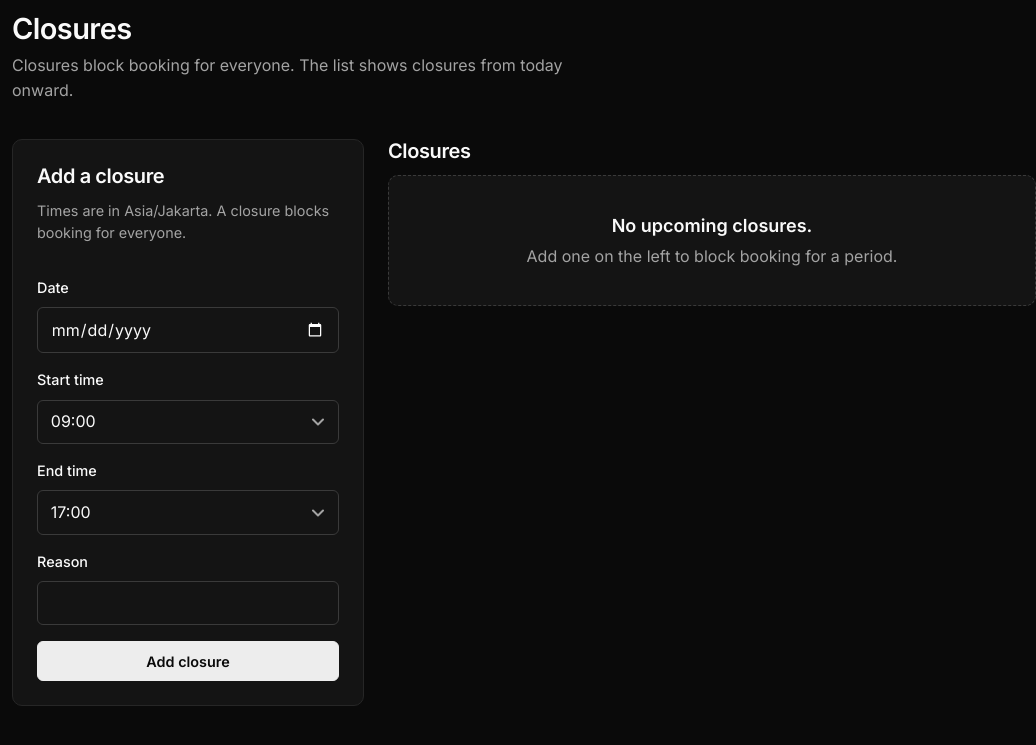
Test case: ClosuresPage › shows the 409 conflict message inline and creates nothing
The width and height of the screenshot is (1036, 745).
Expected: the text "No upcoming closures." is shown, [612,212,812,240]
In the date field labelled "Date": (188, 330) [37,307,339,353], type "2026-11-02"
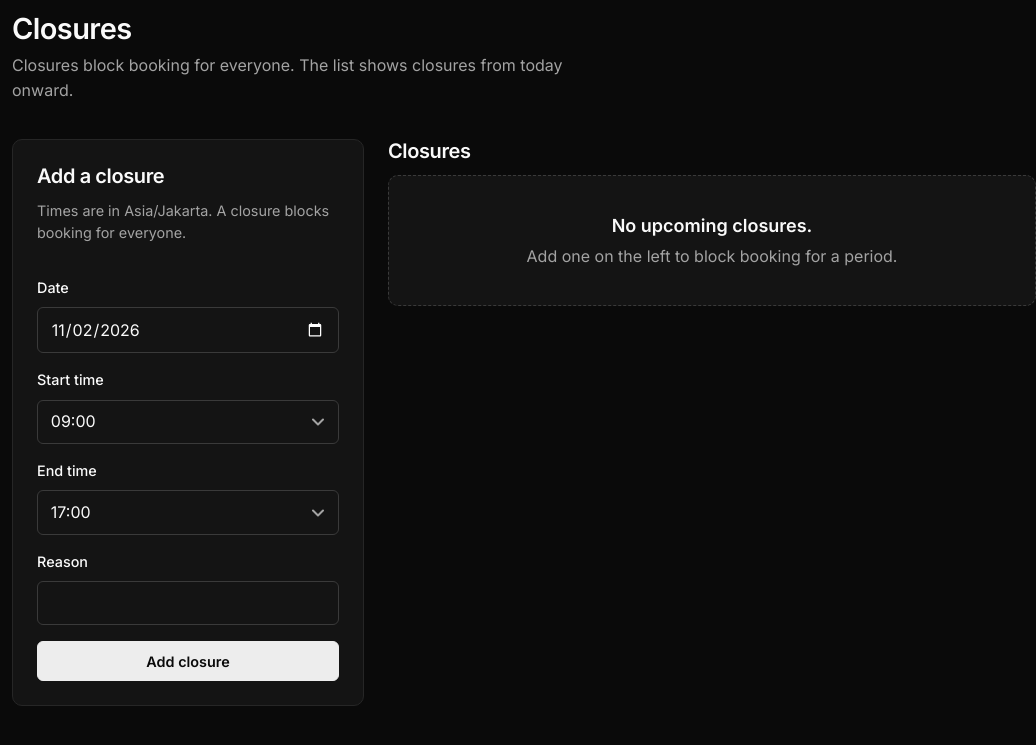
In the field labelled "Reason": (188, 603) [37,581,339,626], type "Holiday"
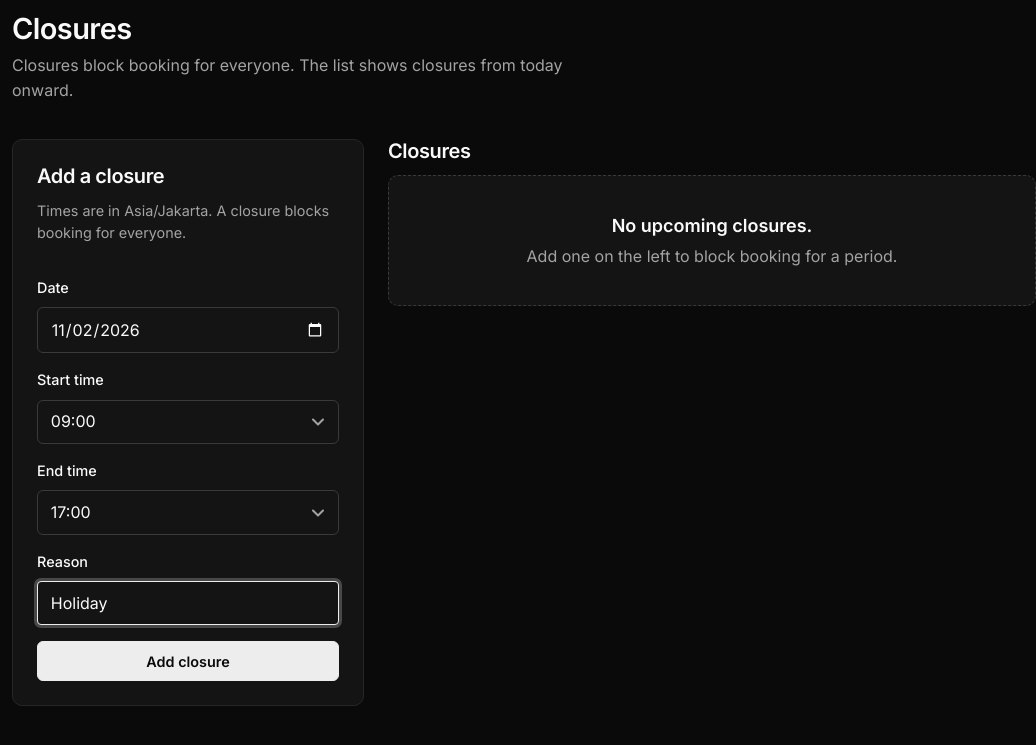
Click the button "Add closure": (188, 662) [37,642,339,682]
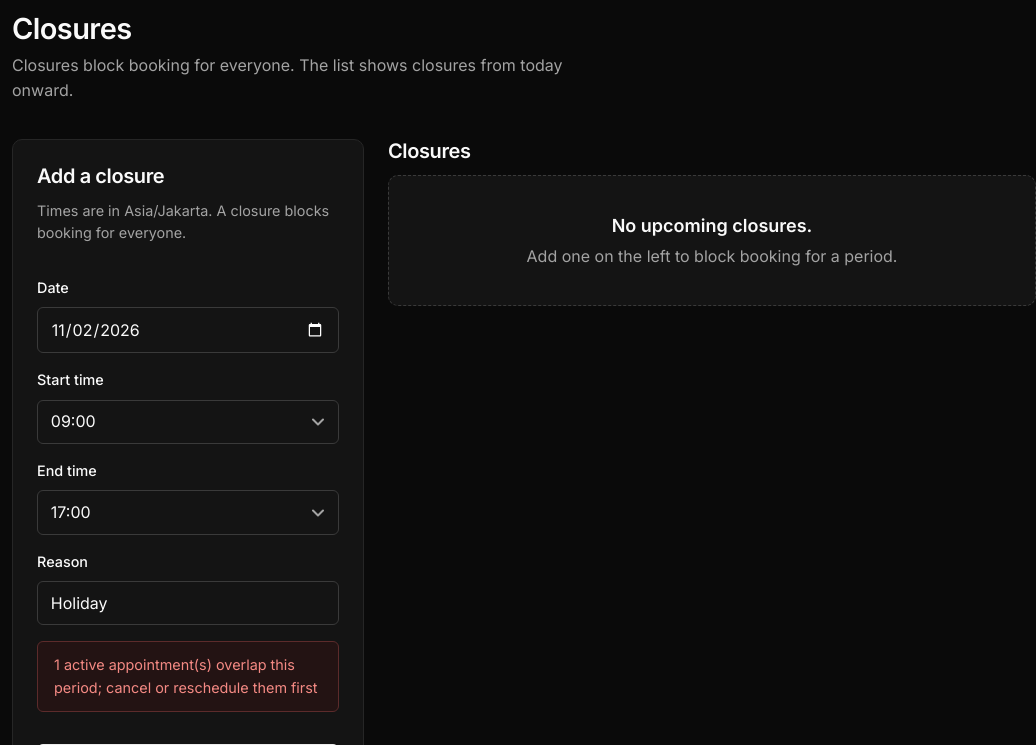
Now the message shows "1 active appointment(s) overlap", box [54,656,318,696]
